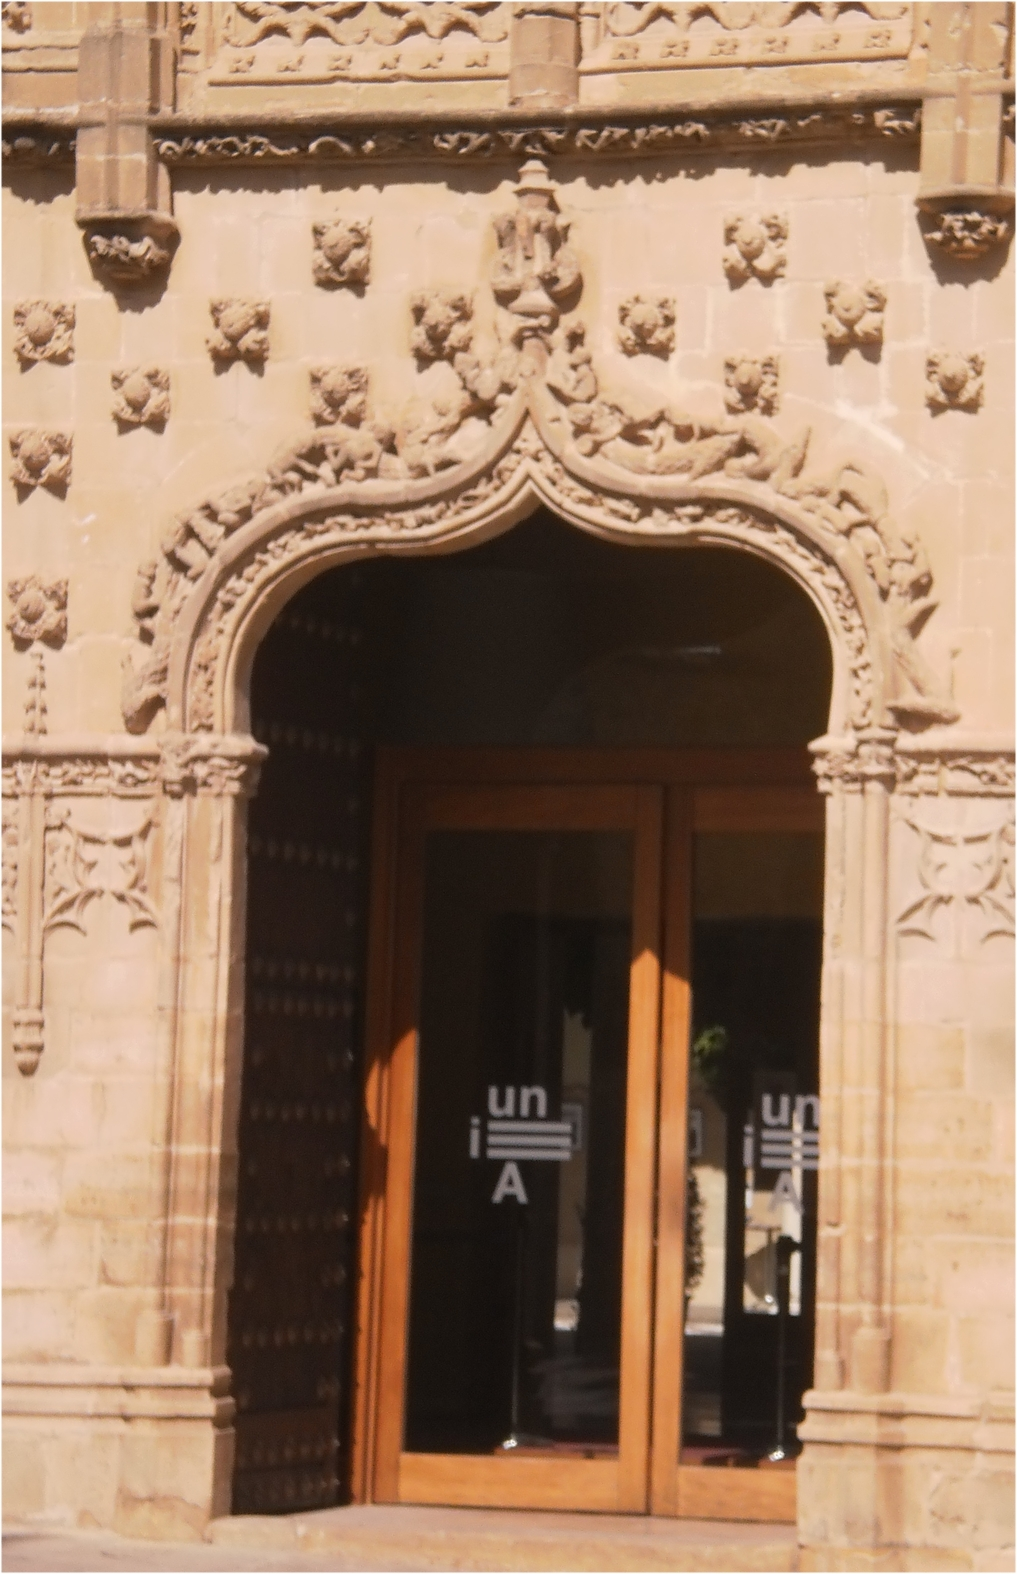arco-conopial: (179, 372, 872, 631)
